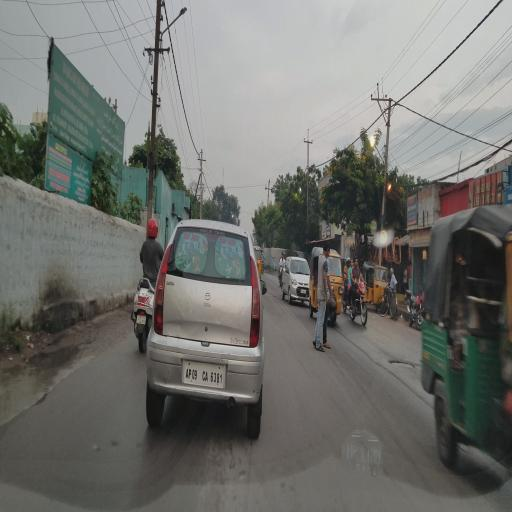street_light_0: (158, 6, 189, 45)
